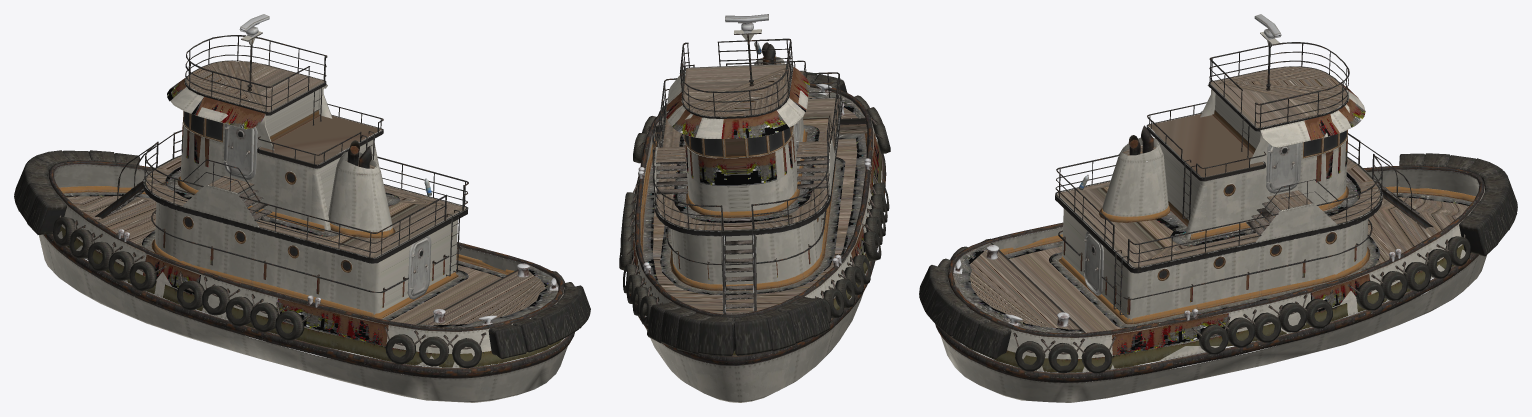
The model's file is divesite_a.glb.
The picture shows the model from 3 angles, left to right: view 1: azimuth 30°, elevation 25°; view 2: azimuth 150°, elevation 25°; view 3: azimuth 270°, elevation 25°; orthographic projection.
Visible parts, largest first — view 1: tugboat_a_LOD0; view 2: tugboat_a_LOD0; view 3: tugboat_a_LOD0.
Boxes of the visible parts, bbox=[...] form: tugboat_a_LOD0: bbox=[14, 14, 590, 402]; tugboat_a_LOD0: bbox=[619, 14, 890, 402]; tugboat_a_LOD0: bbox=[919, 14, 1517, 402].
Size of the model in its own units: 15.15 by 12.48 by 22.17.
6 materials, 6 textured.
